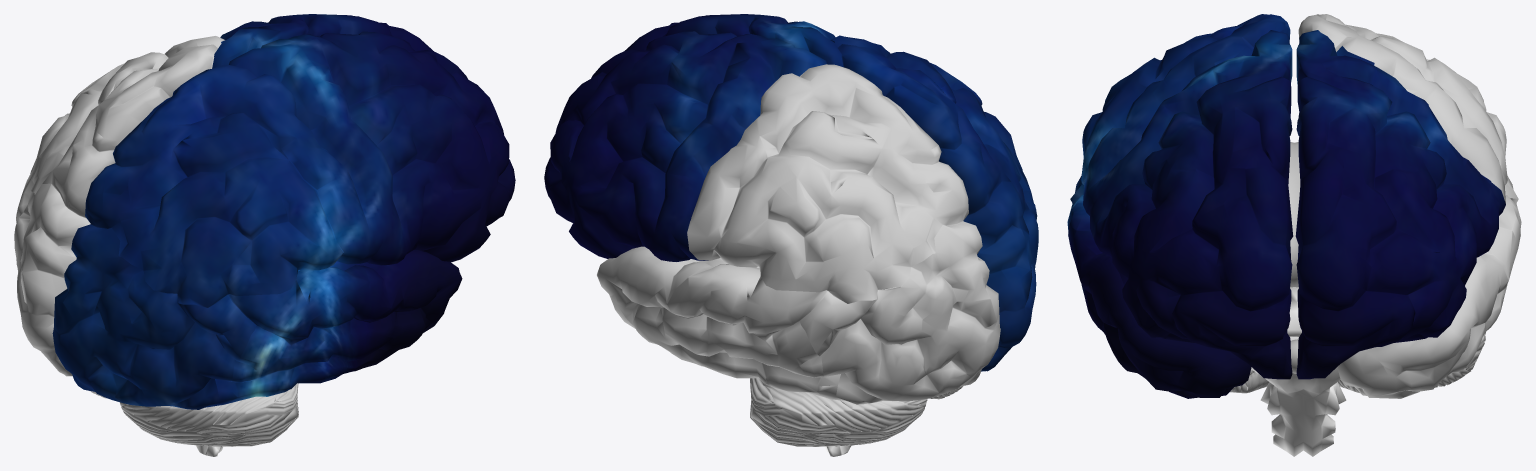
File: brainn.dae
3 views of the same model, side by side, from view 1: azimuth 30°, elevation 25°; view 2: azimuth 150°, elevation 25°; view 3: azimuth 270°, elevation 25° (orthographic). The views are drawn at different scales.
Visible parts, largest first — view 1: ID168, ID128, ID154, ID238, ID180, ID160, ID6, ID134; view 2: ID180, ID134, ID160, ID250, ID168, ID6, ID154, ID128; view 3: ID128, ID134, ID250, ID238, ID180, ID168, ID218, ID118, ID6.
Boxes of the visible parts, <box> form: ID168: <box>85,65,370,307</box>; ID128: <box>229,31,515,265</box>; ID154: <box>52,224,256,409</box>; ID238: <box>205,250,462,407</box>; ID180: <box>22,36,224,218</box>; ID160: <box>14,183,90,376</box>; ID6: <box>90,383,298,446</box>; ID134: <box>212,14,433,68</box>; ID180: <box>687,64,968,303</box>; ID134: <box>544,31,826,261</box>; ID160: <box>799,221,1000,404</box>; ID250: <box>597,246,846,401</box>; ID168: <box>831,35,1030,215</box>; ID6: <box>750,378,963,446</box>; ID154: <box>963,181,1038,371</box>; ID128: <box>625,14,843,67</box>; ID128: <box>1083,30,1293,379</box>; ID134: <box>1295,30,1505,379</box>; ID250: <box>1337,176,1521,398</box>; ID238: <box>1067,176,1251,398</box>; ID180: <box>1298,14,1507,203</box>; ID168: <box>1081,14,1290,203</box>; ID218: <box>1251,287,1346,456</box>; ID118: <box>1288,142,1300,287</box>; ID6: <box>1230,332,1485,393</box>.
Size of the model in its own units: 16.31 by 14.27 by 13.41.
